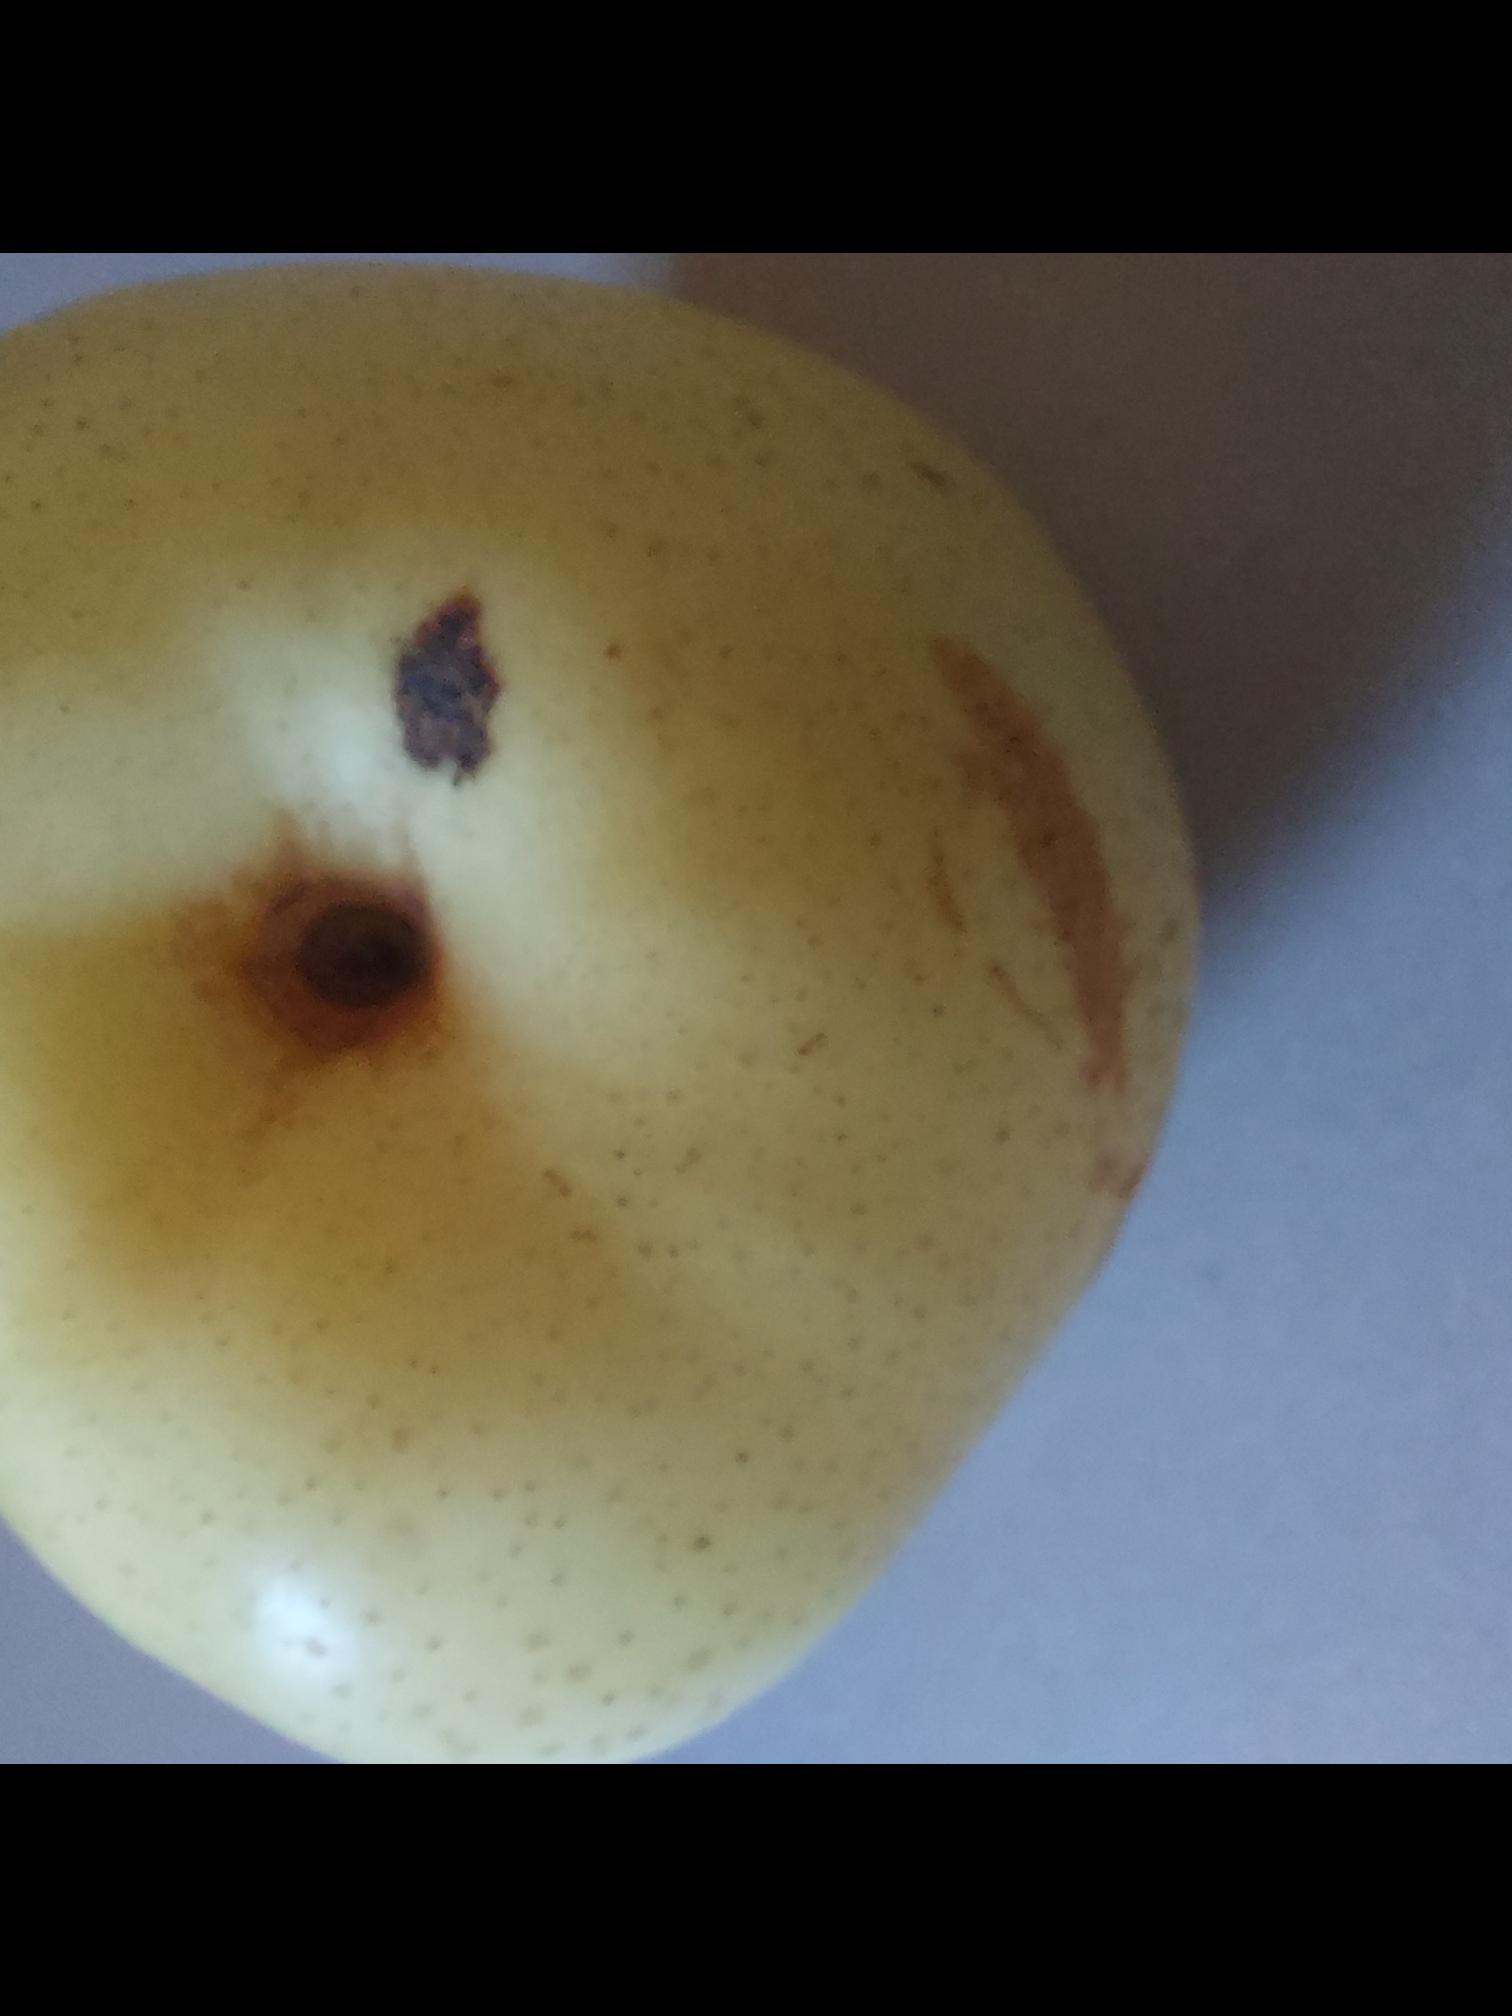Good Pear: (0, 252, 1279, 1764)
